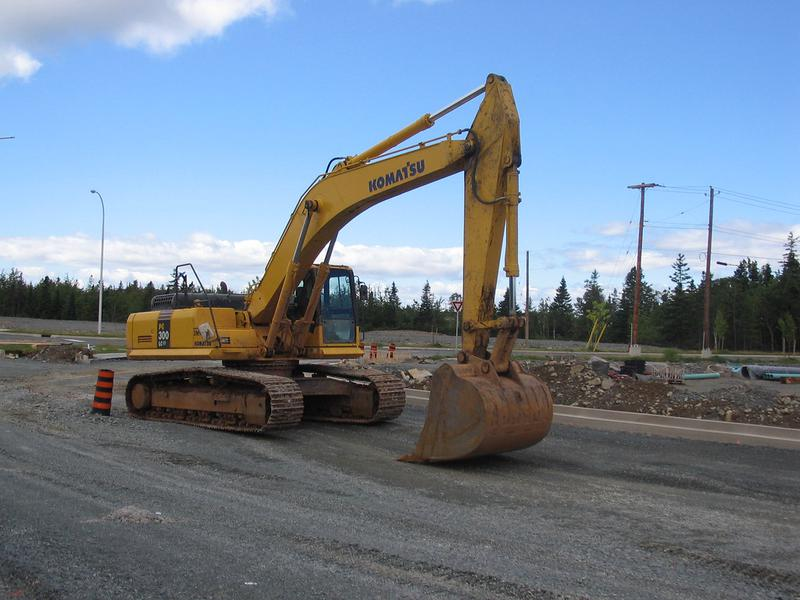shovel: (110, 69, 563, 468)
